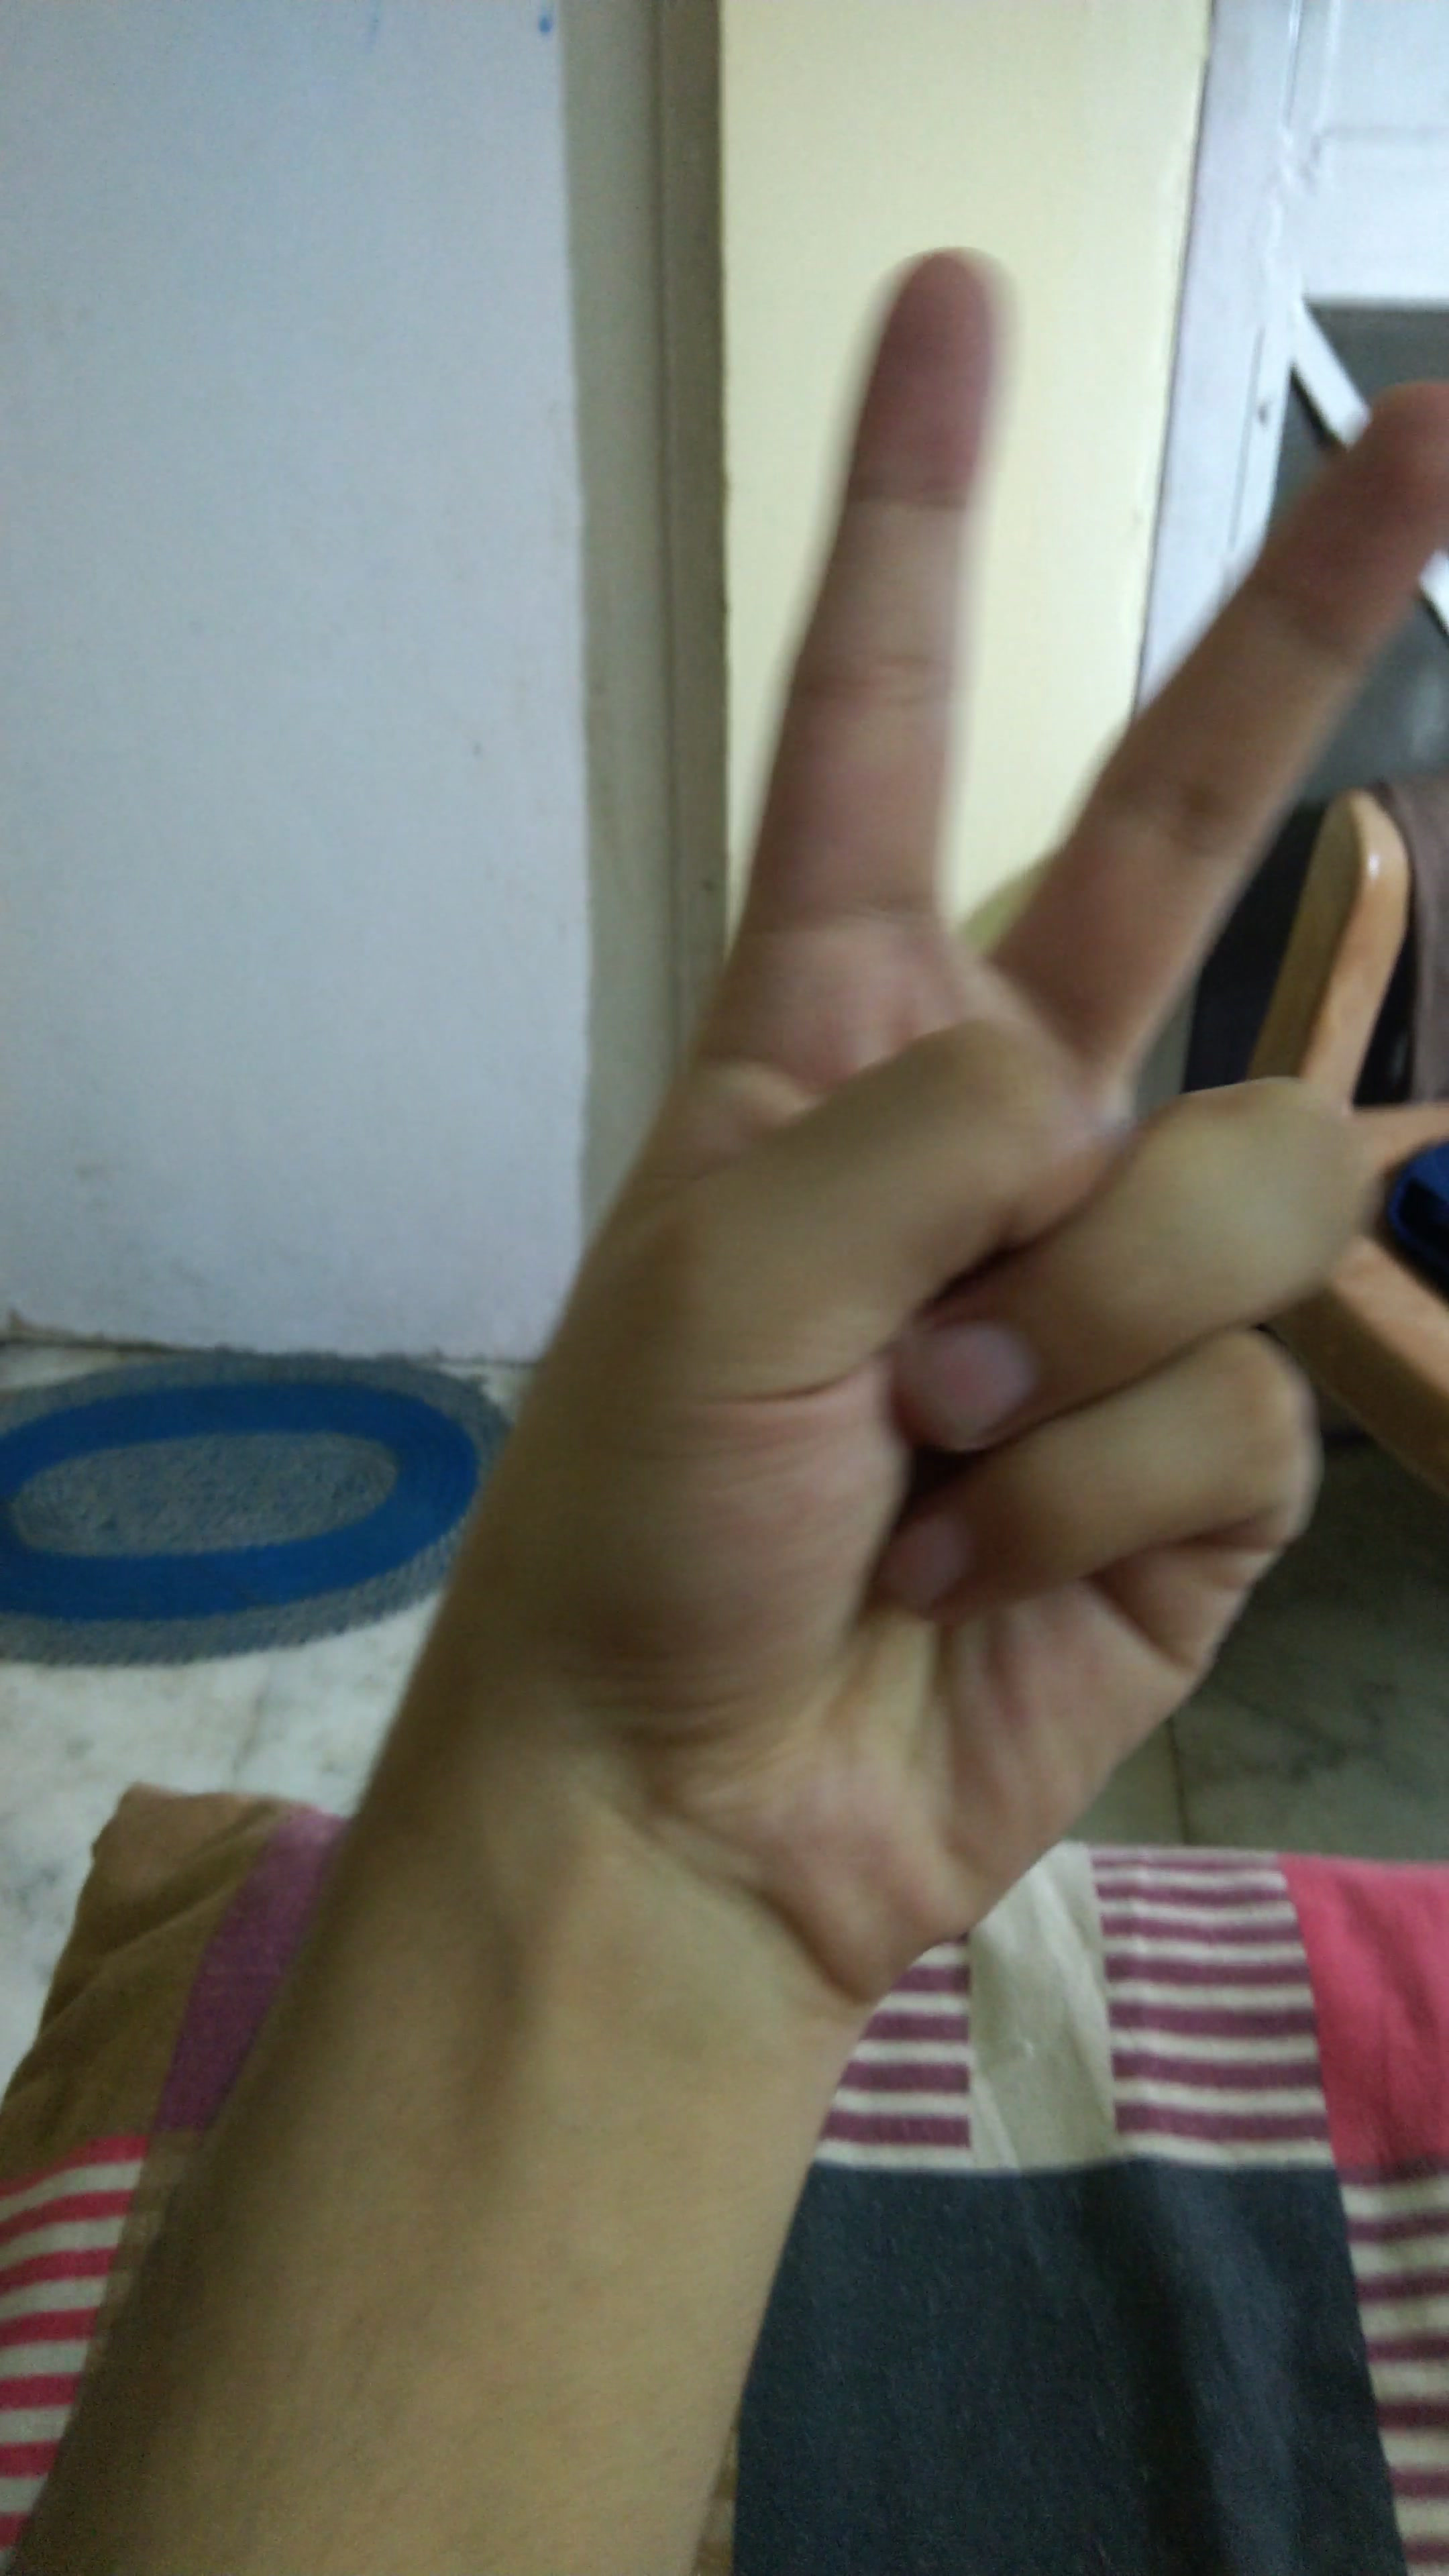hand: (262, 189, 1449, 2006)
